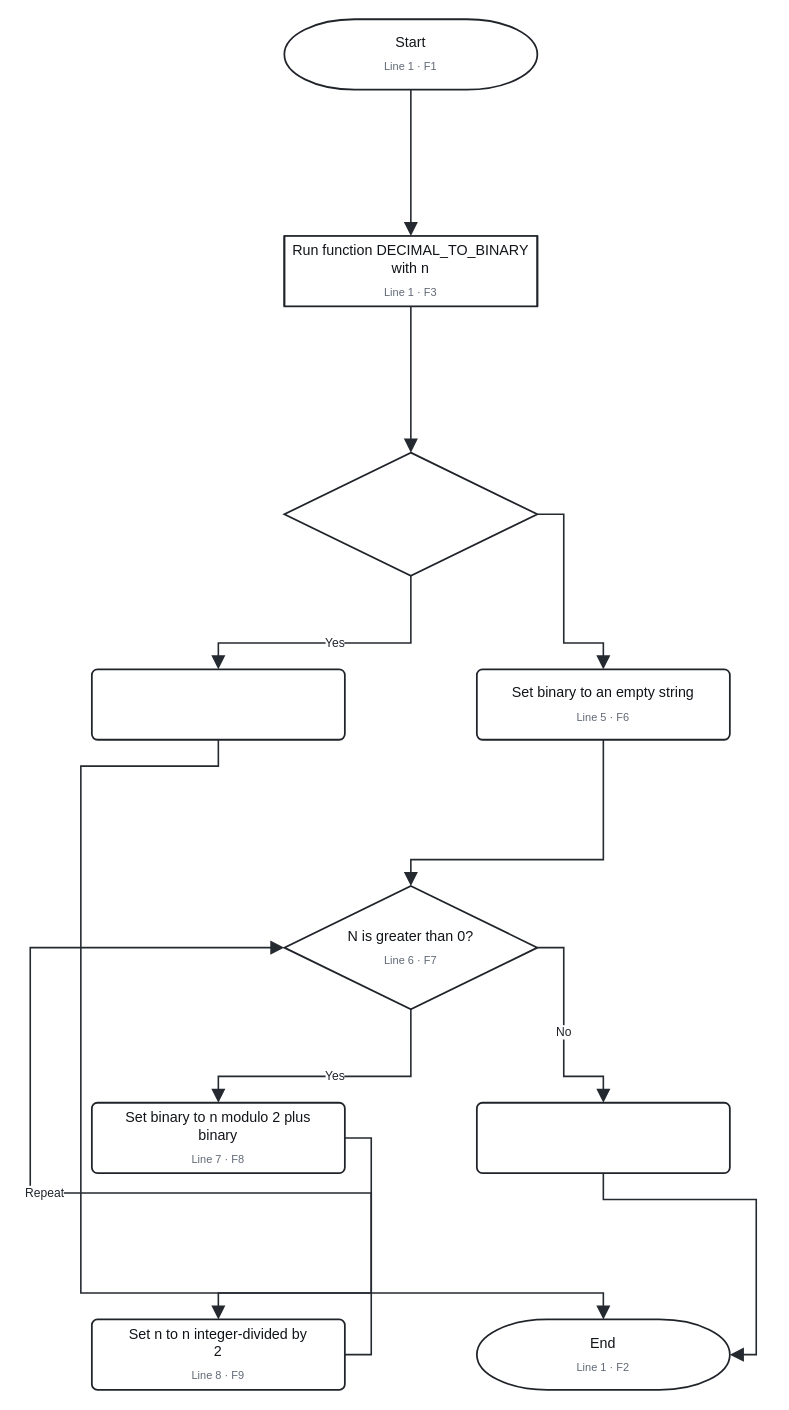
Some shapes in this 789 by 1410 pixel diagram are drawn without their labels. Here are the shapes that lost their labels. From the top down, the centre of each, then its label:
the point at 410,513: N is equal to 0? Line 2 · F4
the point at 217,704: Return "0" Line 3 · F5
the point at 602,1137: Return binary Line 10 · F10
